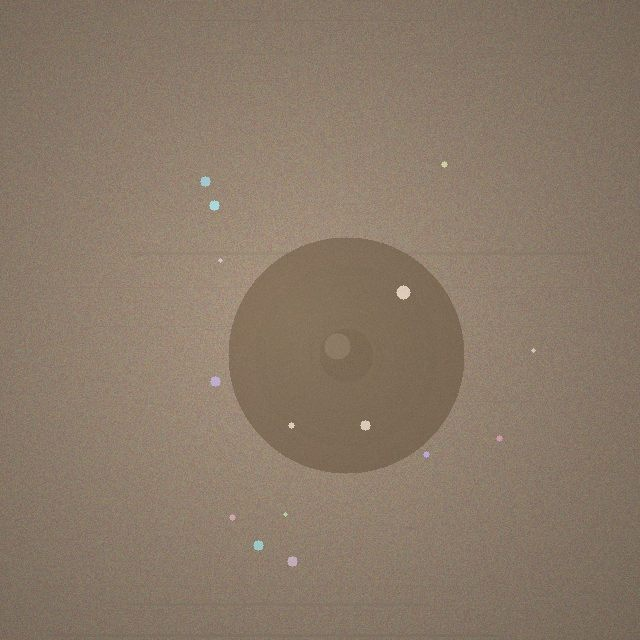overburn: (228, 237, 464, 473)
